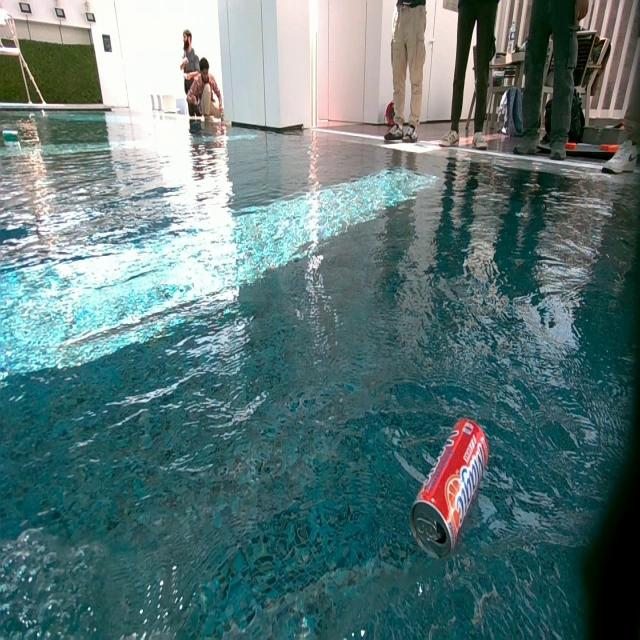Cans: (412, 414, 491, 556), (2, 129, 18, 139), (30, 112, 36, 120), (40, 110, 45, 116)
